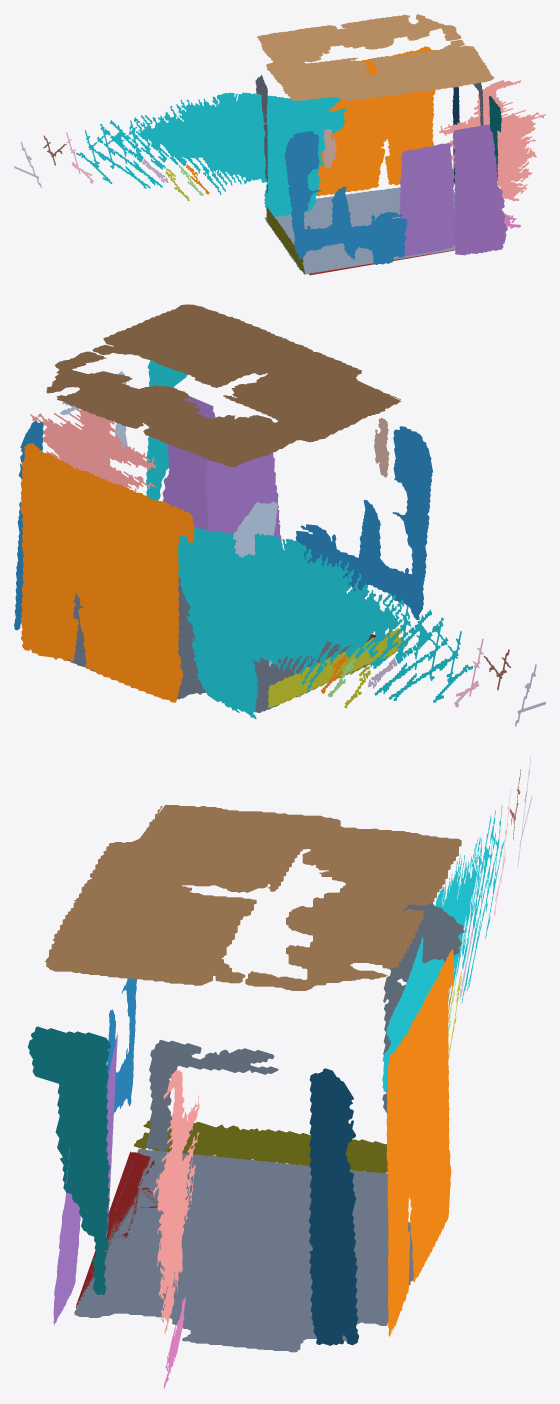
The model's file is ours.glb.
The picture shows the model from 3 angles, top to bottom: view 1: azimuth 30°, elevation 25°; view 2: azimuth 150°, elevation 25°; view 3: azimuth 270°, elevation 25°; orthographic projection. The views are drawn at different scales.
Visible parts, largest first — view 1: Node1; view 2: Node1; view 3: Node1.
Boxes of the visible parts, x1=… form: Node1: x1=14, y1=14, x2=545, y2=275; Node1: x1=14, y1=304, x2=545, y2=726; Node1: x1=28, y1=756, x2=532, y2=1388.
Bounding box in the file's own units: 7.5 × 3.02 × 3.75.
